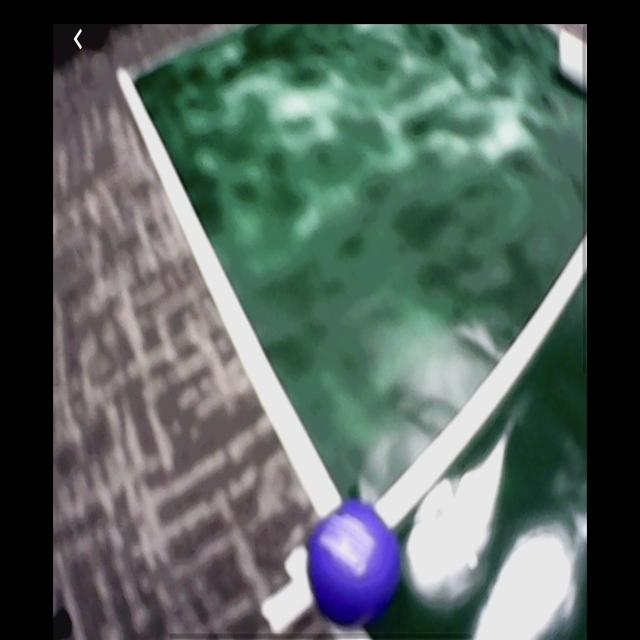ball: (310, 502, 401, 626)
